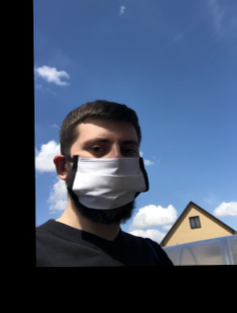with_mask: (71, 131, 148, 223)
